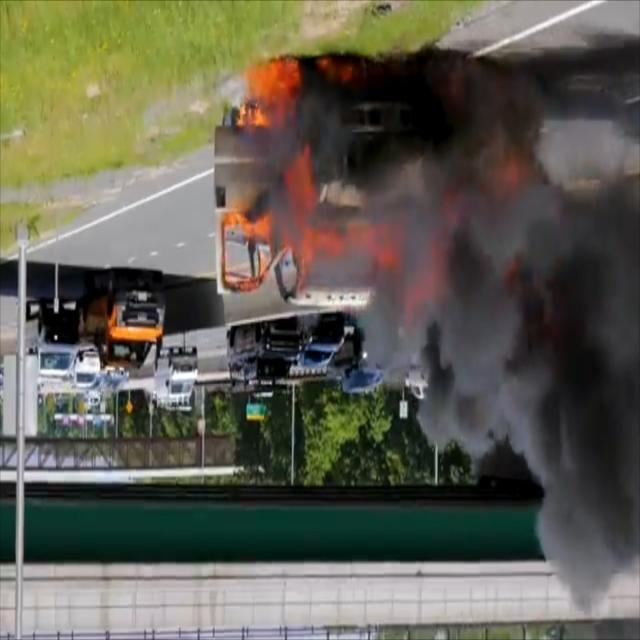fire: (212, 46, 520, 300)
